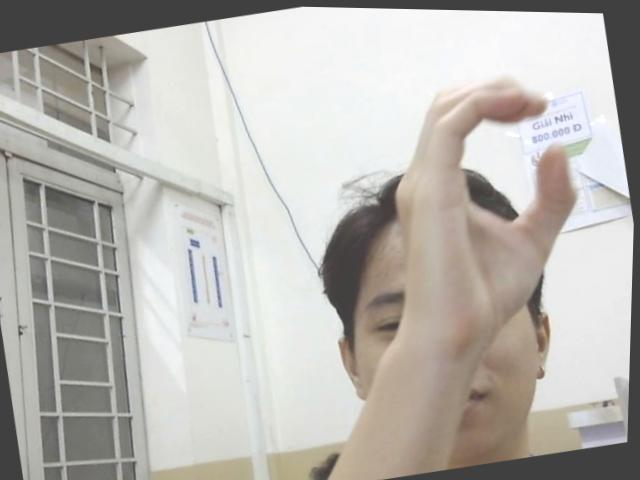C: (371, 58, 604, 347)
